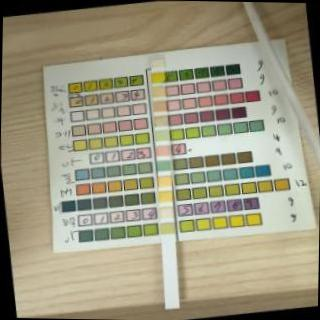mark: (158, 206, 172, 218), (160, 222, 174, 234), (158, 175, 172, 186), (158, 191, 172, 202), (156, 144, 169, 155), (154, 130, 168, 140), (157, 160, 170, 170), (153, 116, 167, 125), (152, 73, 164, 82), (154, 101, 166, 110), (150, 58, 163, 66), (152, 87, 164, 95)
